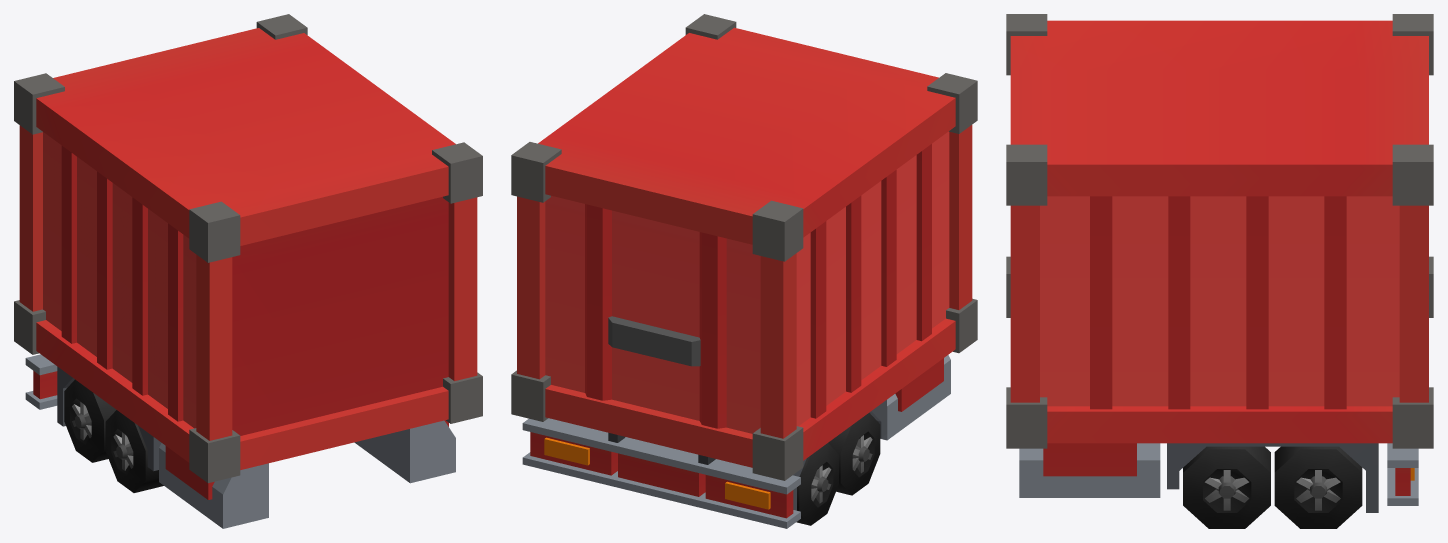
The model's file is cargo_02_E_1.fbx.
The picture shows the model from 3 angles, left to right: view 1: azimuth 30°, elevation 25°; view 2: azimuth 150°, elevation 25°; view 3: azimuth 270°, elevation 25°; orthographic projection. The views are drawn at different scales.
Visible parts, largest first — view 1: cargo_02_E_1; view 2: cargo_02_E_1; view 3: cargo_02_E_1.
Boxes of the visible parts, <box> form: cargo_02_E_1: <box>14,14,482,528</box>; cargo_02_E_1: <box>511,14,977,528</box>; cargo_02_E_1: <box>1006,14,1433,528</box>.
Size of the model in its own units: 1374 by 1633 by 1680.
